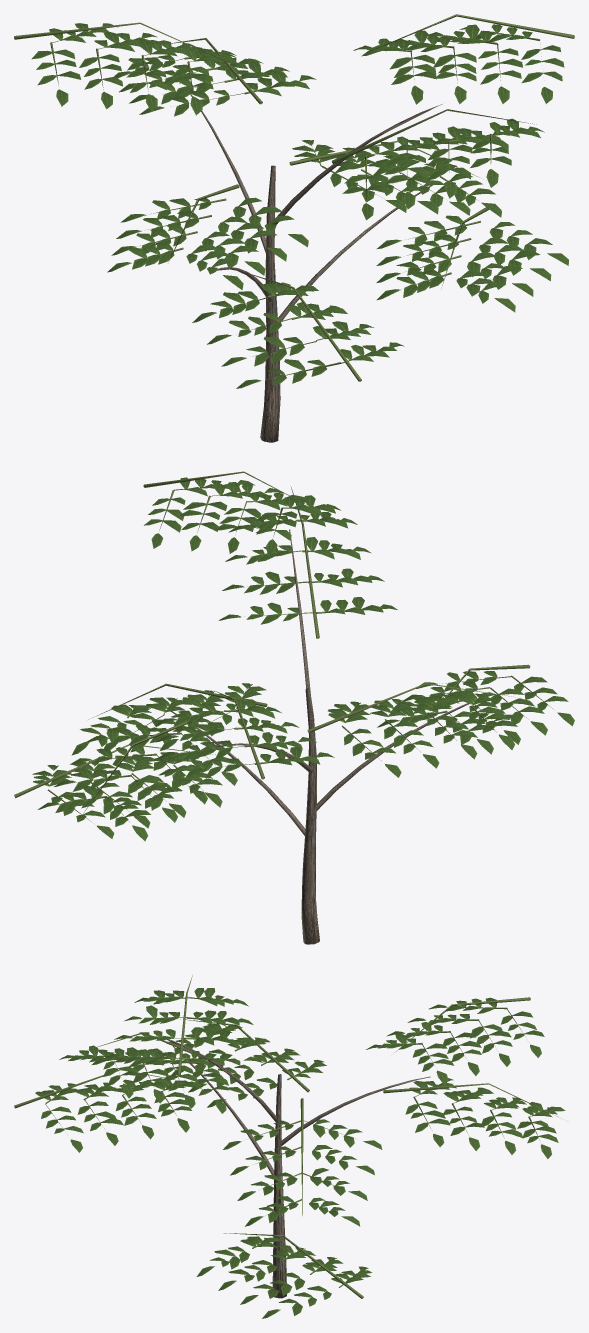
Rendered from koelreuteria-1.glb.
3 views of the same model, one above another, from view 1: azimuth 30°, elevation 25°; view 2: azimuth 150°, elevation 25°; view 3: azimuth 270°, elevation 25° (orthographic). The views are drawn at different scales.
Parts seen in each view (by area): view 1: leaf, rachis, bark, leaf-edge; view 2: leaf, rachis, bark, leaf-edge; view 3: leaf, rachis, bark, leaf-edge.
Part boxes in pixels (x1,y1,x2,y2): leaf: [32, 23, 568, 388]; rachis: [14, 14, 574, 381]; bark: [190, 93, 442, 442]; leaf-edge: [32, 29, 564, 388]; leaf: [32, 477, 574, 840]; rachis: [14, 471, 553, 821]; bark: [171, 529, 475, 944]; leaf-edge: [36, 482, 570, 837]; leaf: [35, 988, 565, 1318]; rachis: [14, 975, 567, 1298]; bark: [167, 1039, 430, 1298]; leaf-edge: [51, 992, 560, 1318].
Bounding box in the file's own units: 0.3965 × 0.3424 × 0.4904.
4 materials, 3 textured.
